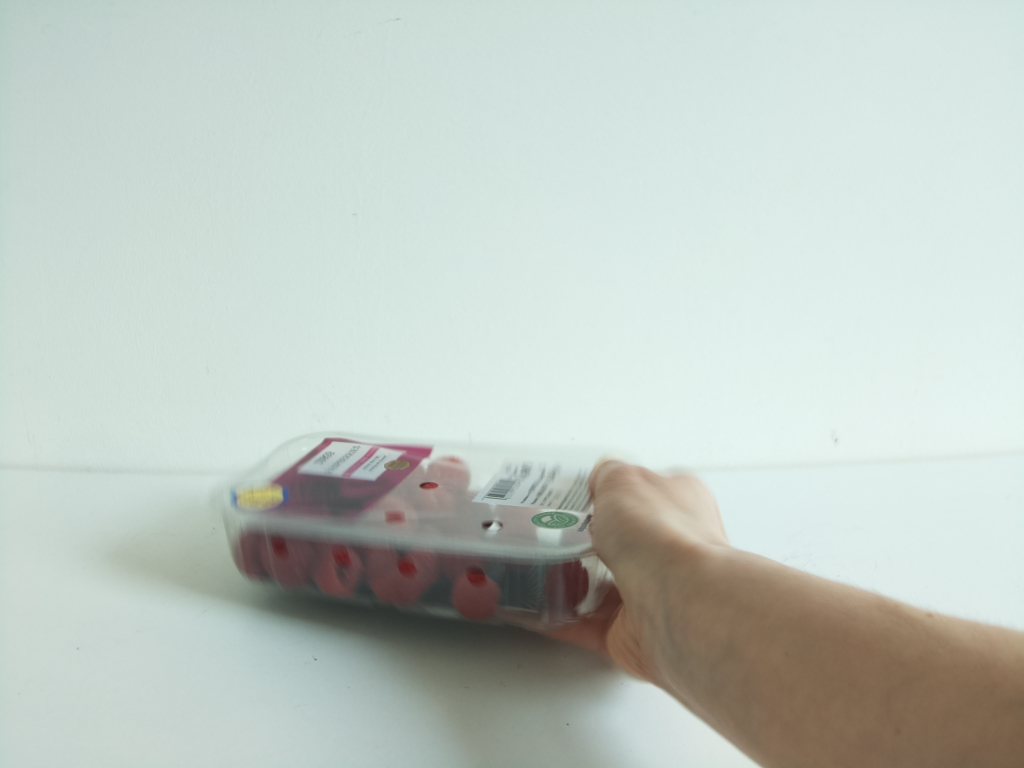soft-fruit: (219, 438, 624, 635)
